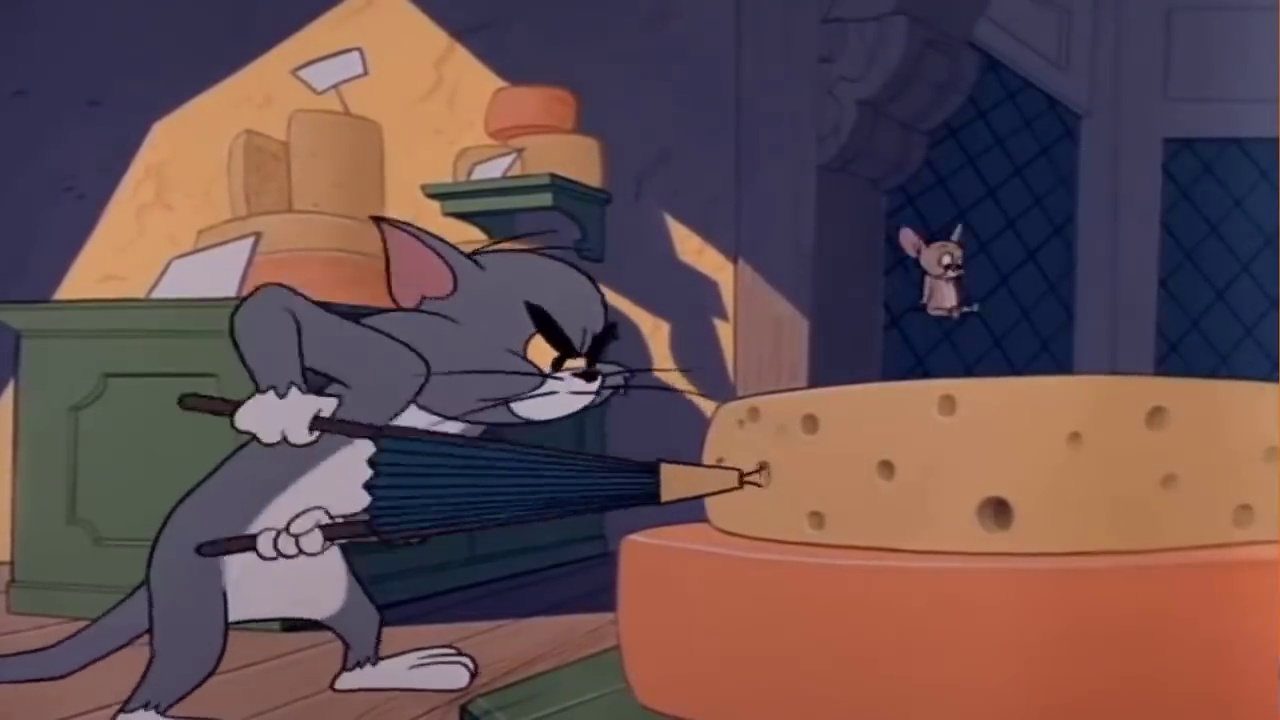face: (498, 289, 625, 426), (929, 240, 966, 278)
